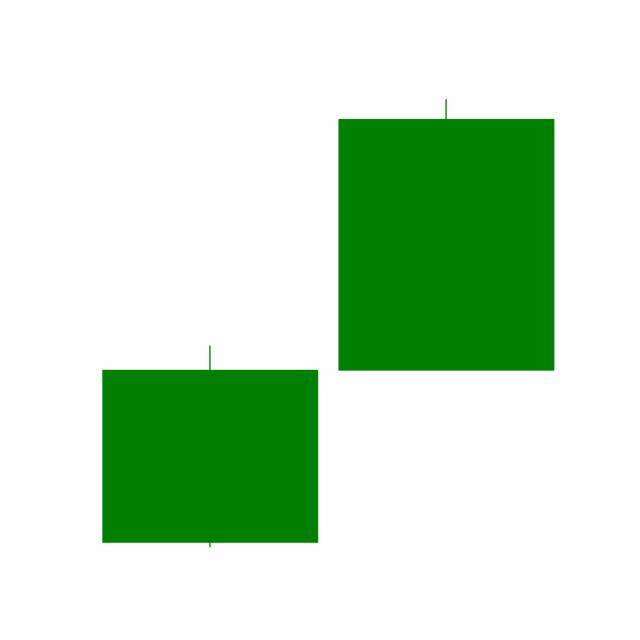Marubozu: (327, 95, 565, 372)
